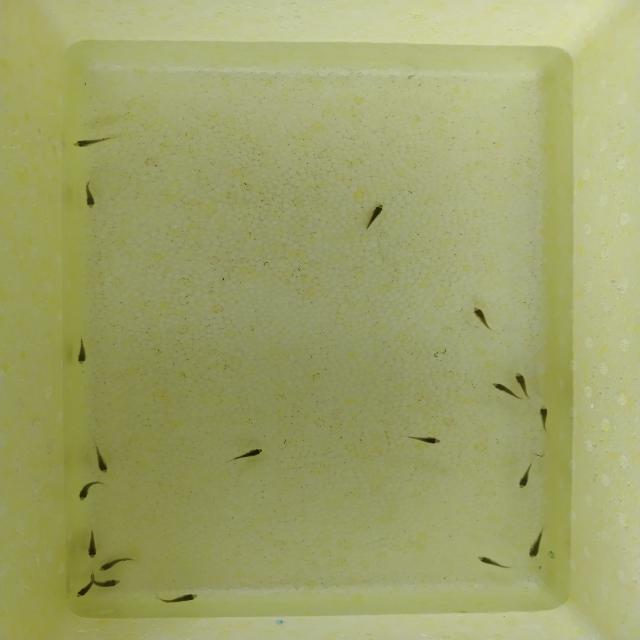fingerling: (74, 178, 104, 212), (467, 305, 499, 333), (362, 199, 388, 233), (512, 366, 536, 400), (470, 548, 507, 570), (398, 432, 456, 446), (526, 526, 546, 565), (232, 442, 270, 462), (85, 452, 118, 474), (510, 466, 539, 491), (69, 134, 116, 149), (66, 342, 95, 366), (79, 535, 105, 559), (75, 480, 102, 502), (534, 405, 555, 431), (170, 592, 207, 605), (486, 382, 517, 396), (94, 560, 125, 572), (98, 577, 129, 588), (77, 582, 90, 600)
